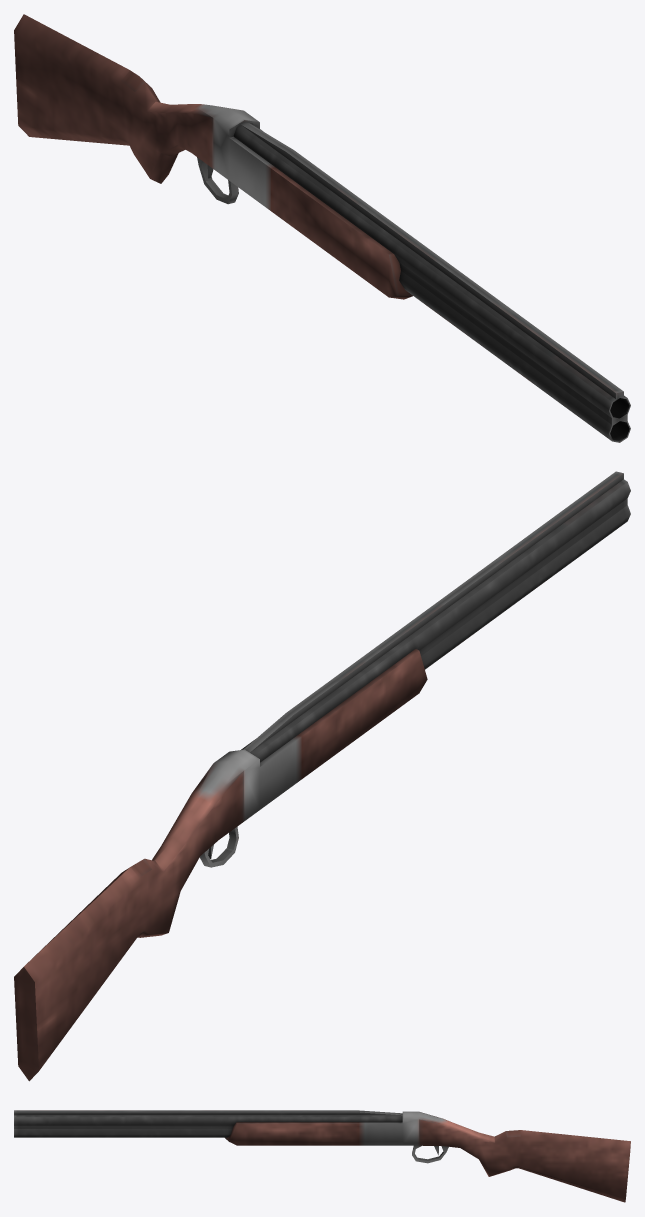
File: OverUnder.fbx
3 views of the same model, one above another, from view 1: azimuth 30°, elevation 25°; view 2: azimuth 150°, elevation 25°; view 3: azimuth 270°, elevation 25° (orthographic). The views are drawn at different scales.
Parts seen in each view (by area): view 1: OverUnder; view 2: OverUnder; view 3: OverUnder.
Boxes of the visible parts, x1,y1,x2,y2 form: OverUnder: (14, 14, 630, 442); OverUnder: (14, 471, 630, 1081); OverUnder: (14, 1110, 630, 1202).
Size of the model in its own units: 3.48 by 19.27 by 118.
1 material, 1 textured.
